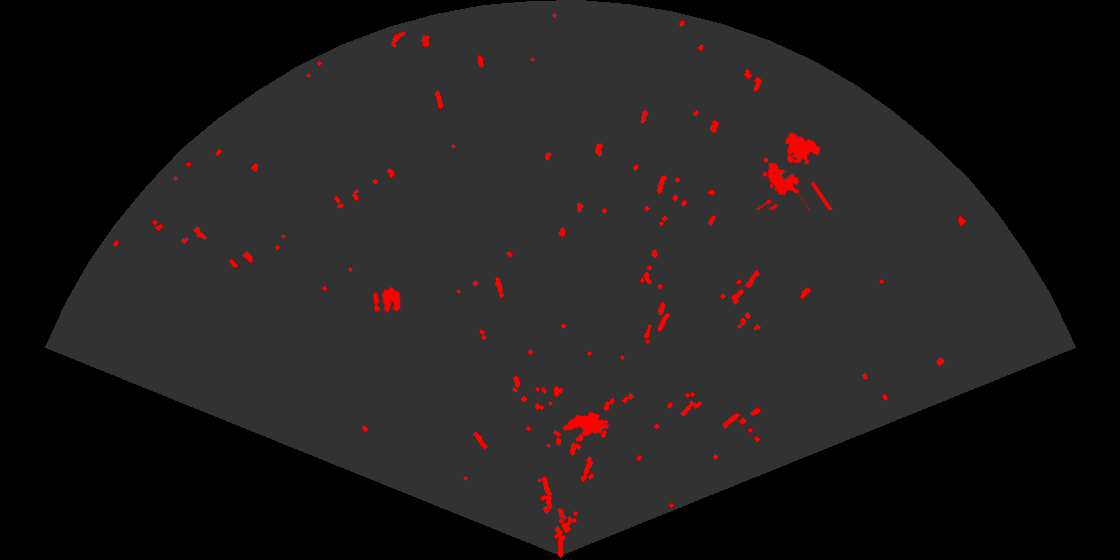AUV: (561, 410, 611, 438)
ball: (372, 285, 403, 315)
cage: (754, 131, 834, 210)
